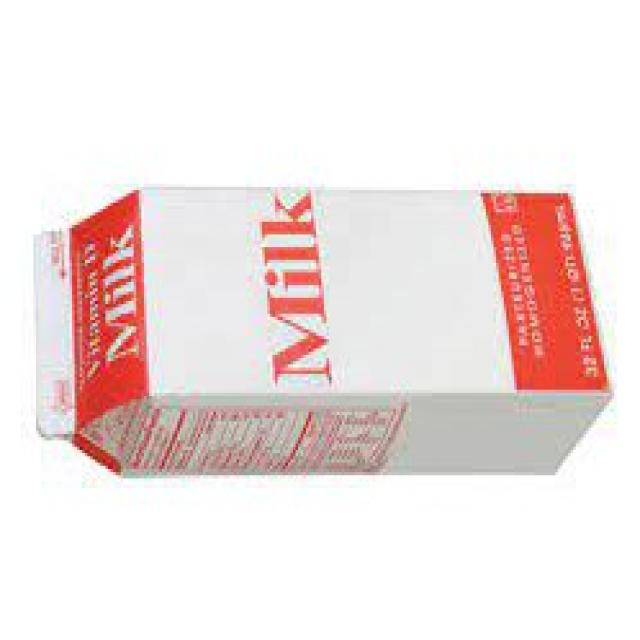non_white_jug: (27, 185, 609, 477)
